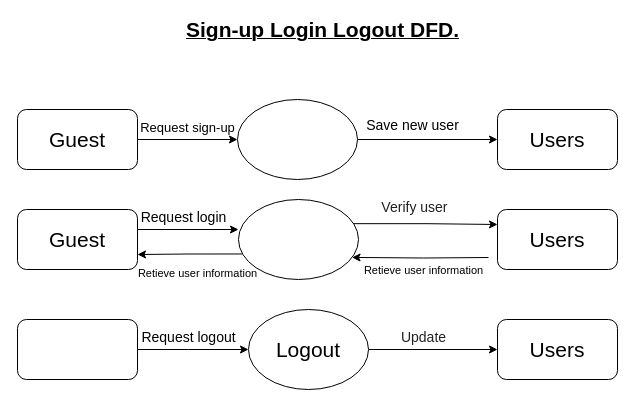
Some shapes in this 635 by 407 pixel diagram are drawn without their labels. The shapes that lost their labels are listed below. From the top down, each one's centre as x and y in pixels, then its label:
(297,139): Sign-up
(298,239): Login
(77,349): User
